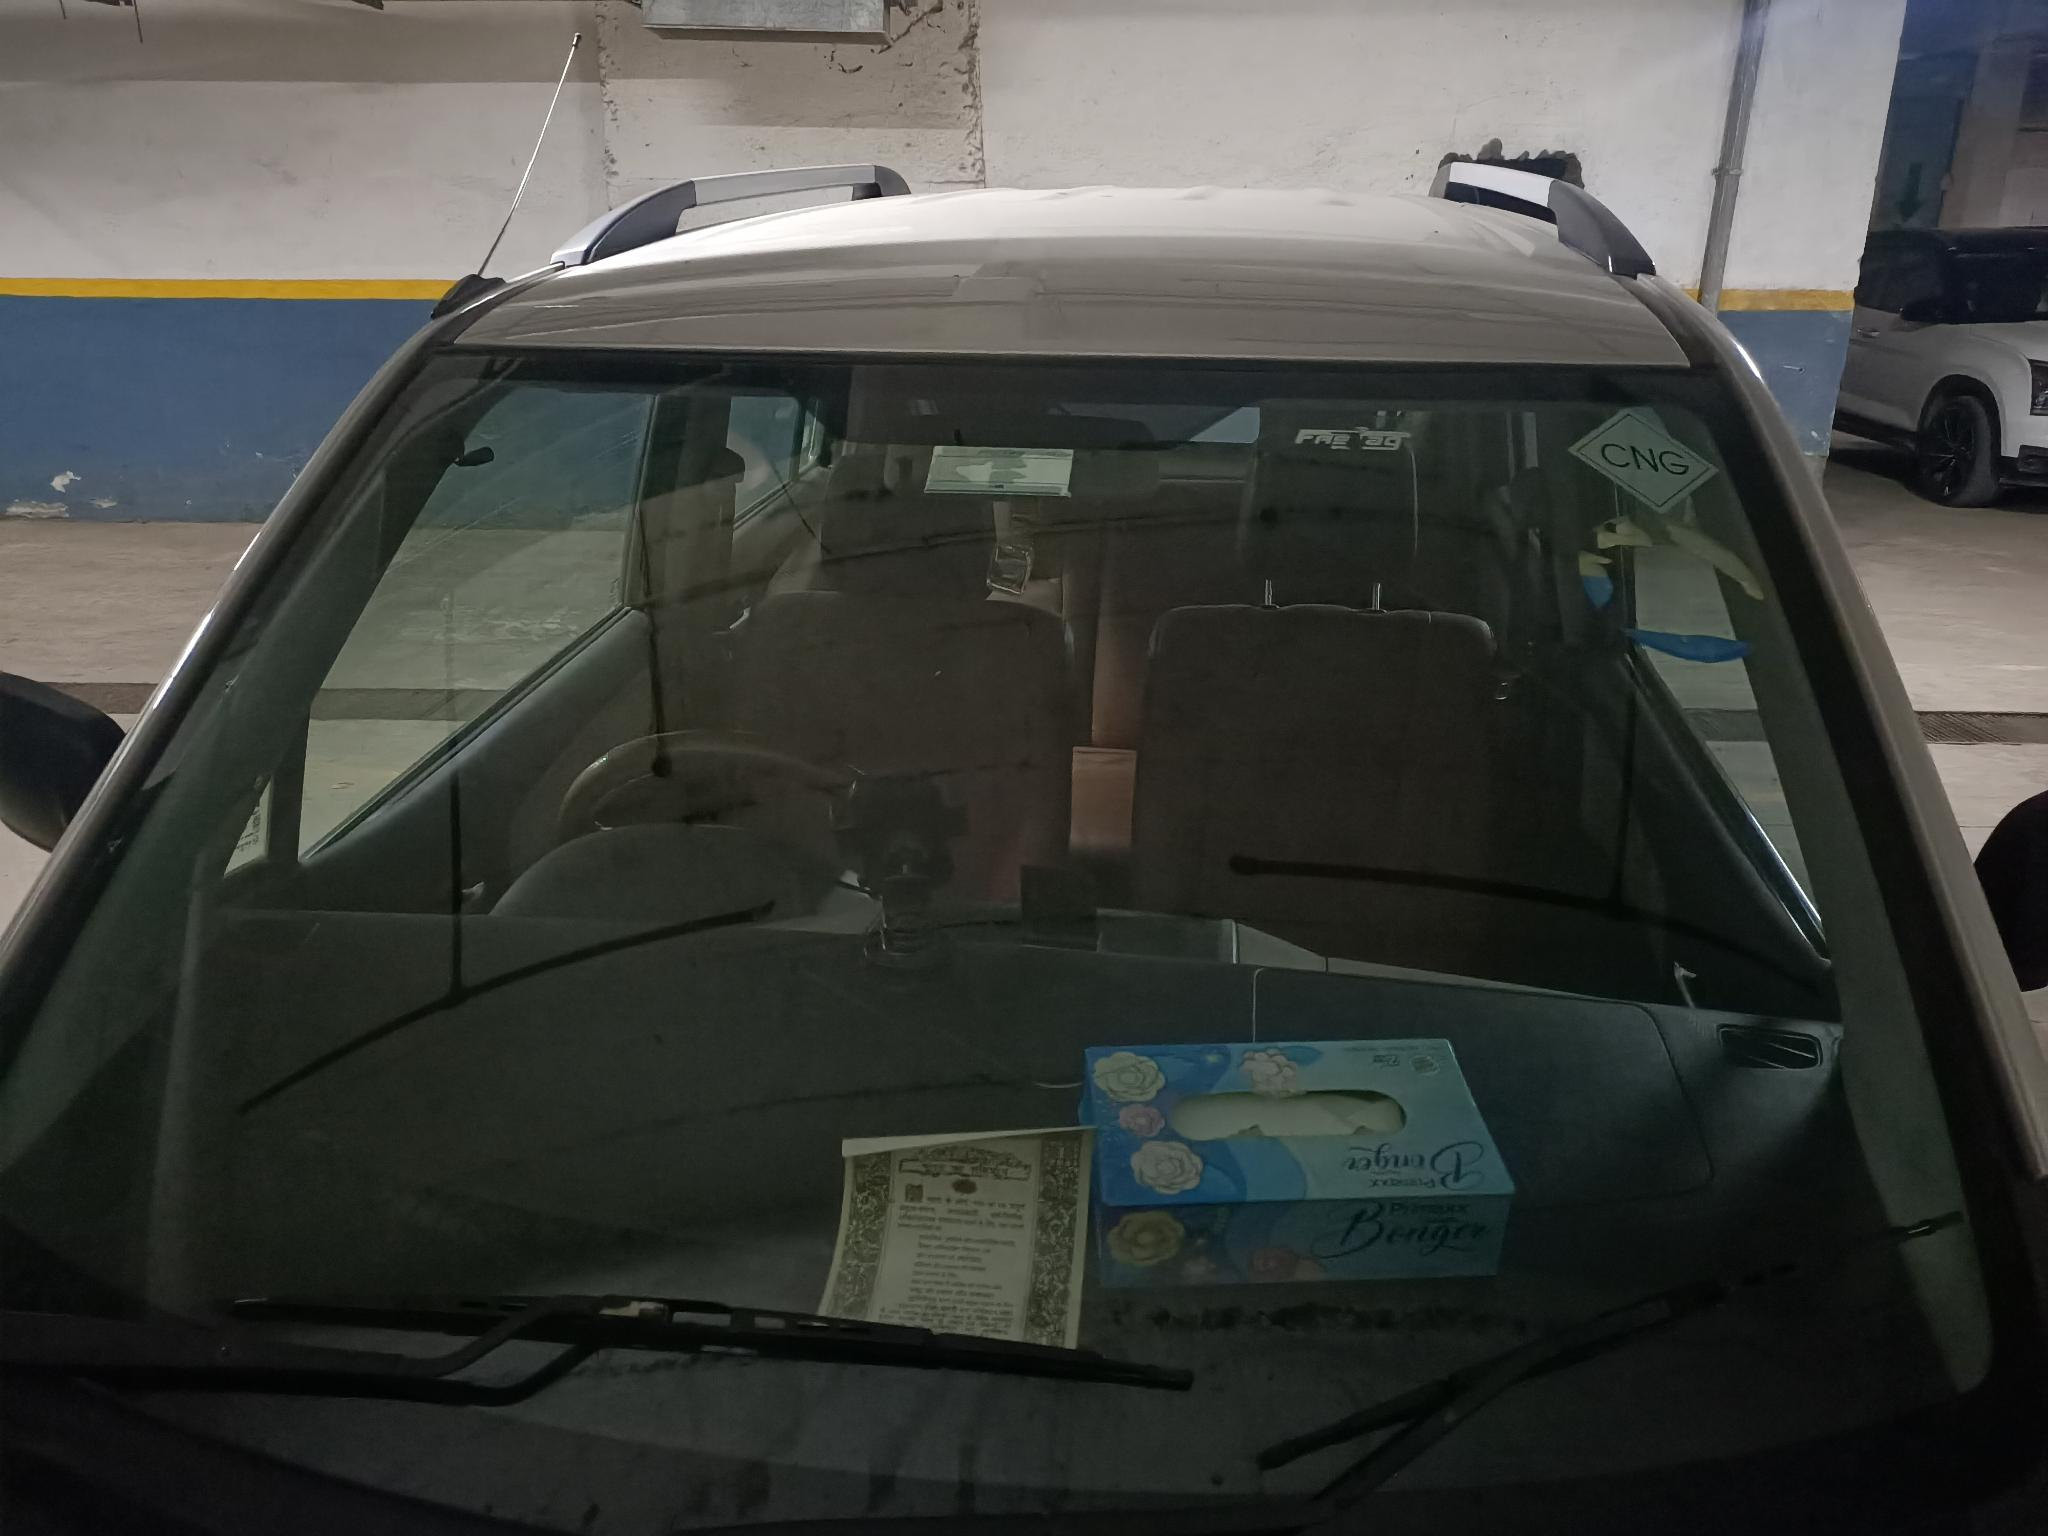FastTag: (905, 411, 1092, 518)
not a FastTag: (1576, 405, 1713, 531)
